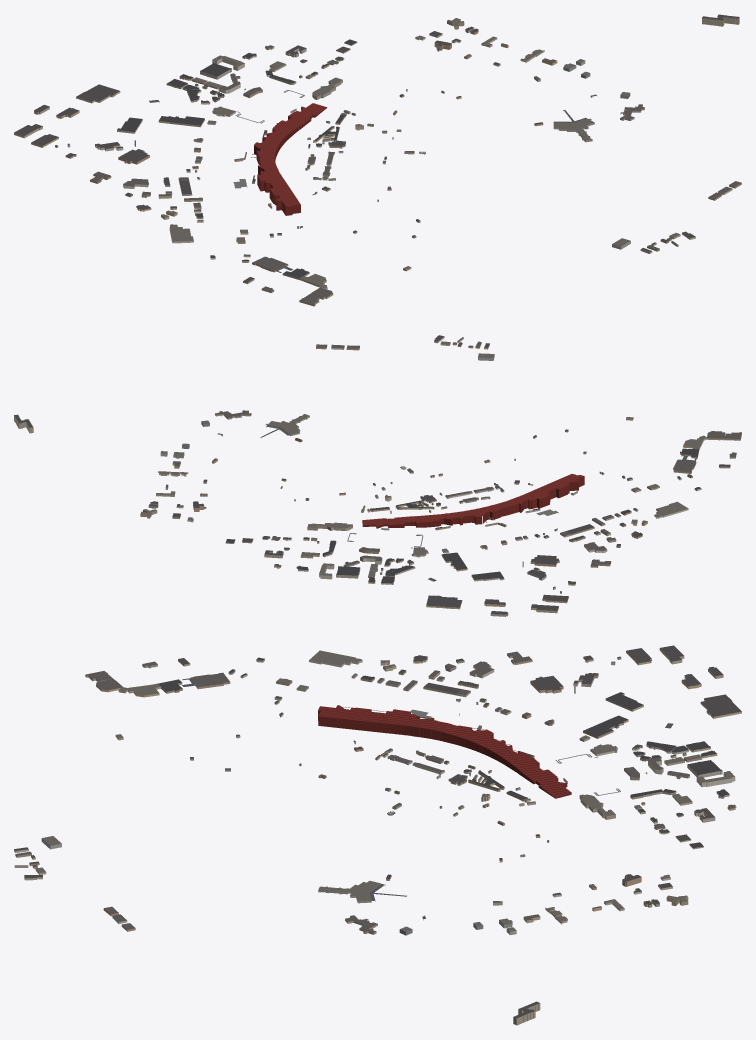
The model's file is scenery.glb.
The picture shows the model from 3 angles, top to bottom: view 1: azimuth 30°, elevation 25°; view 2: azimuth 150°, elevation 25°; view 3: azimuth 270°, elevation 25°; orthographic projection. The views are drawn at different scales.
Visible parts, largest first — view 1: chunk_14_14, chunk_14_12, chunk_13_12, chunk_13_13, chunk_15_12, chunk_17_15, chunk_12_12, chunk_13_14, chunk_12_14, chunk_17_13, chunk_12_15, chunk_12_16 (+1 smaller); view 2: chunk_14_14, chunk_14_12, chunk_13_12, chunk_12_12, chunk_13_14, chunk_15_12, chunk_13_13, chunk_17_15, chunk_12_14, chunk_17_13, chunk_12_15, chunk_15_13; view 3: chunk_14_14, chunk_14_12, chunk_13_12, chunk_13_13, chunk_15_12, chunk_17_15, chunk_12_12, chunk_13_14, chunk_12_14, chunk_12_15, chunk_17_13, chunk_15_13 (+2 smaller).
Boxes of the visible parts, x1,y1,x2,y2 form: chunk_14_14: (251, 103, 345, 215); chunk_14_12: (166, 55, 262, 104); chunk_13_12: (76, 84, 172, 133); chunk_13_13: (116, 116, 204, 164); chunk_15_12: (242, 45, 344, 84); chunk_17_15: (553, 104, 644, 142); chunk_12_12: (14, 104, 79, 147); chunk_13_14: (163, 152, 255, 209); chunk_12_14: (123, 178, 201, 219); chunk_17_13: (464, 36, 585, 81); chunk_12_15: (169, 213, 245, 259); chunk_12_16: (242, 254, 288, 292); chunk_14_14: (362, 474, 584, 528); chunk_14_12: (319, 547, 415, 584); chunk_13_12: (426, 564, 504, 609); chunk_12_12: (484, 591, 568, 616); chunk_13_14: (485, 508, 614, 542); chunk_15_12: (262, 536, 336, 571); chunk_13_13: (441, 535, 559, 571); chunk_17_15: (215, 410, 309, 435); chunk_12_14: (584, 513, 647, 553); chunk_17_13: (156, 451, 217, 496); chunk_12_15: (620, 484, 701, 518); chunk_15_13: (307, 492, 391, 541); chunk_14_14: (318, 705, 571, 798); chunk_14_12: (624, 741, 735, 787); chunk_13_12: (605, 692, 741, 728); chunk_13_13: (495, 676, 619, 738); chunk_15_12: (630, 789, 736, 834); chunk_17_15: (318, 880, 385, 934); chunk_12_12: (617, 645, 723, 689); chunk_13_14: (385, 680, 489, 730); chunk_12_14: (377, 655, 494, 683); chunk_12_15: (256, 650, 374, 685); chunk_17_13: (493, 884, 624, 935); chunk_15_13: (497, 787, 620, 825).
Bounding box in the file's own units: 3004 × 46.44 × 2449.
